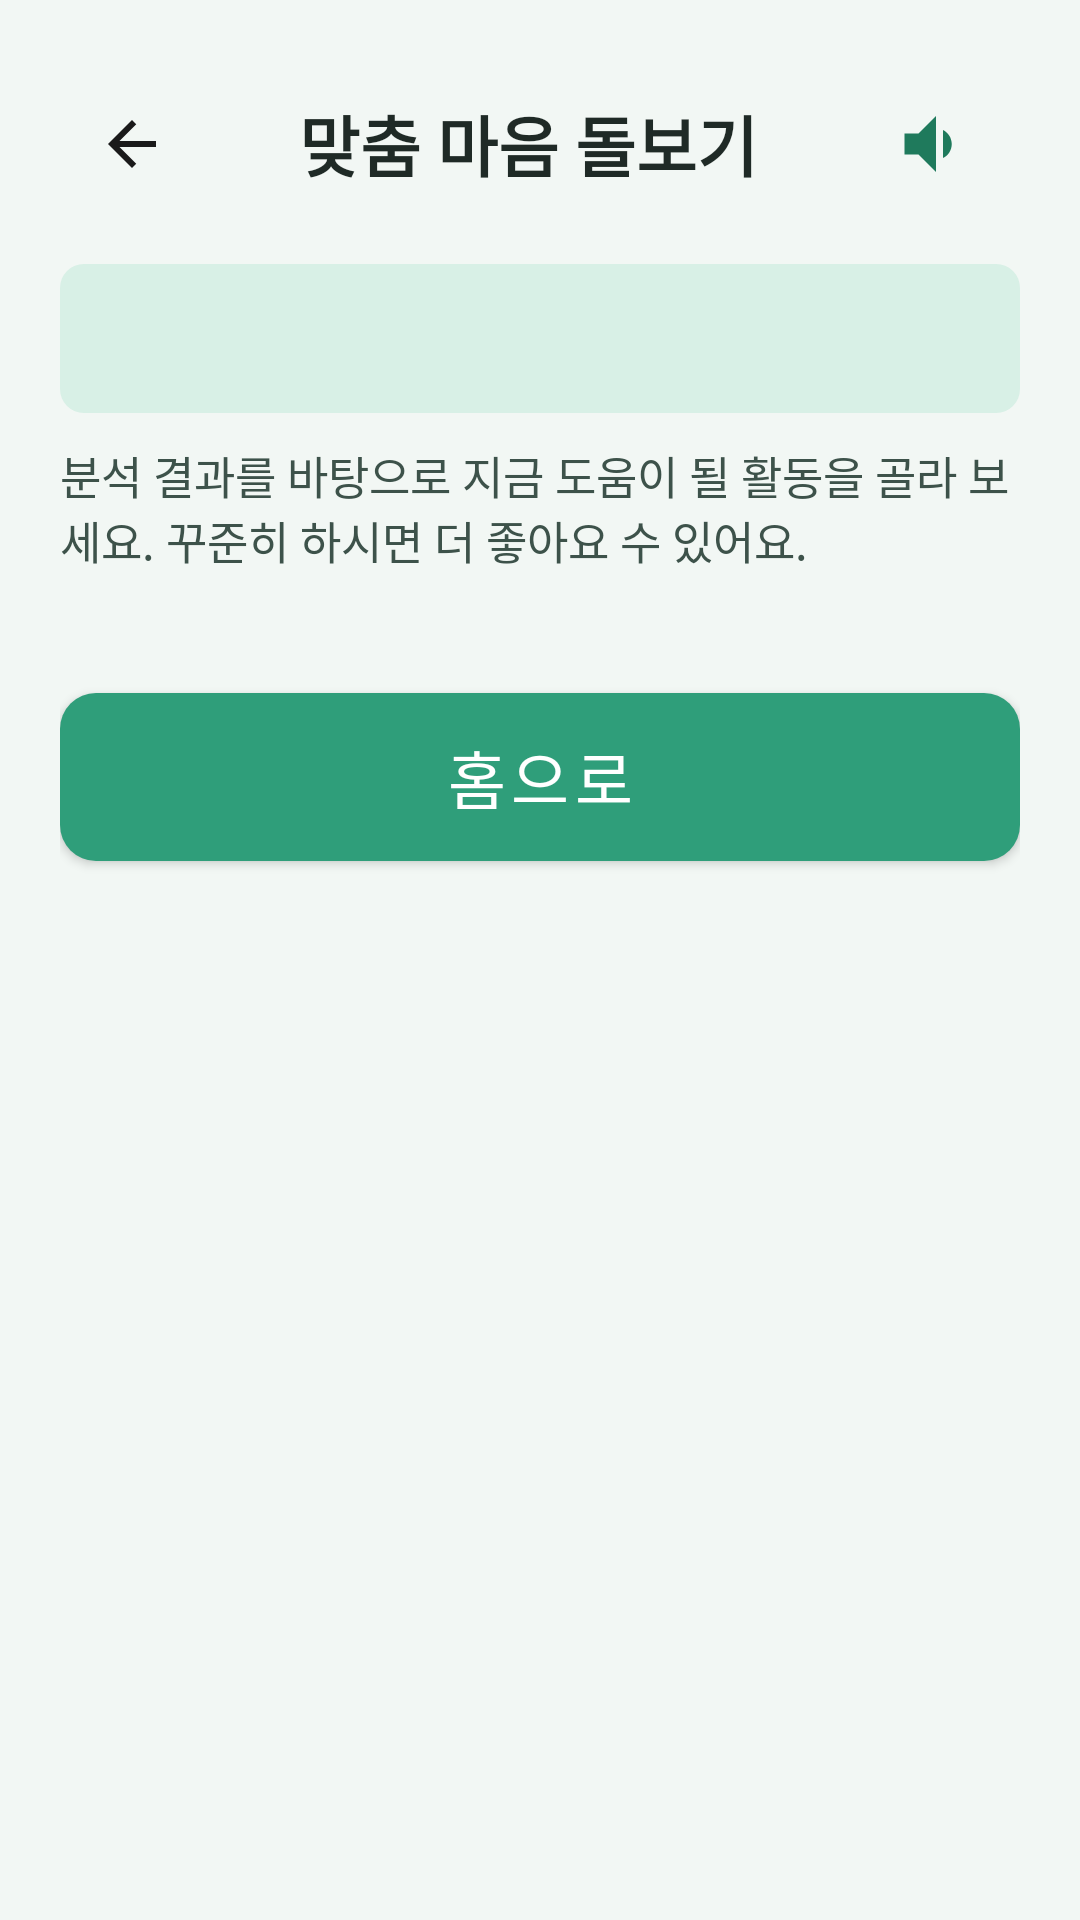

Where to tap for icons on this 1080*1920 app screen, as (x,y):
이전: (132,144)
읽어주기: (928,144)
